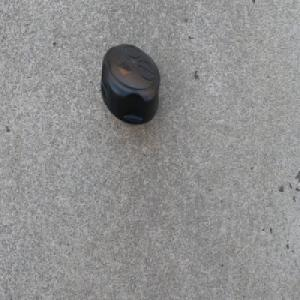FuelCap: (99, 42, 160, 129)
